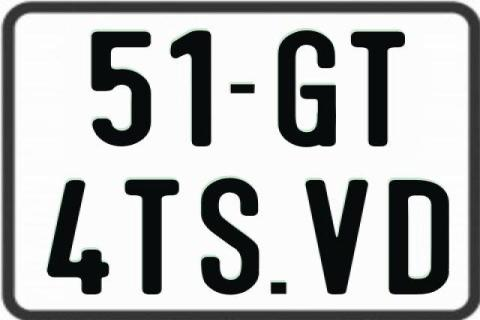0: (44, 179, 111, 299), (89, 29, 153, 145), (167, 28, 210, 148)
D: (386, 178, 452, 294)
G: (275, 31, 333, 149)
S: (201, 178, 261, 296)
T: (350, 30, 409, 148), (123, 180, 180, 298)
V: (302, 177, 367, 293)
